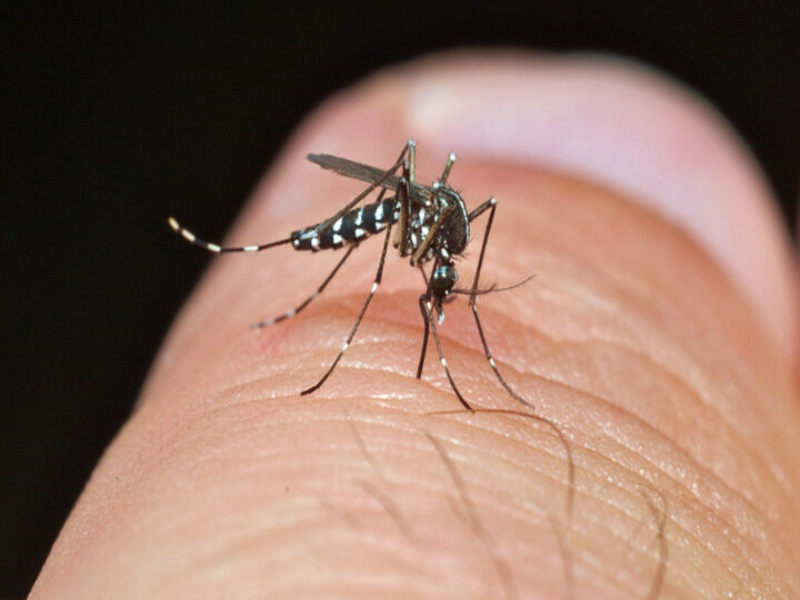dengue_mosquito: (172, 140, 520, 404)
